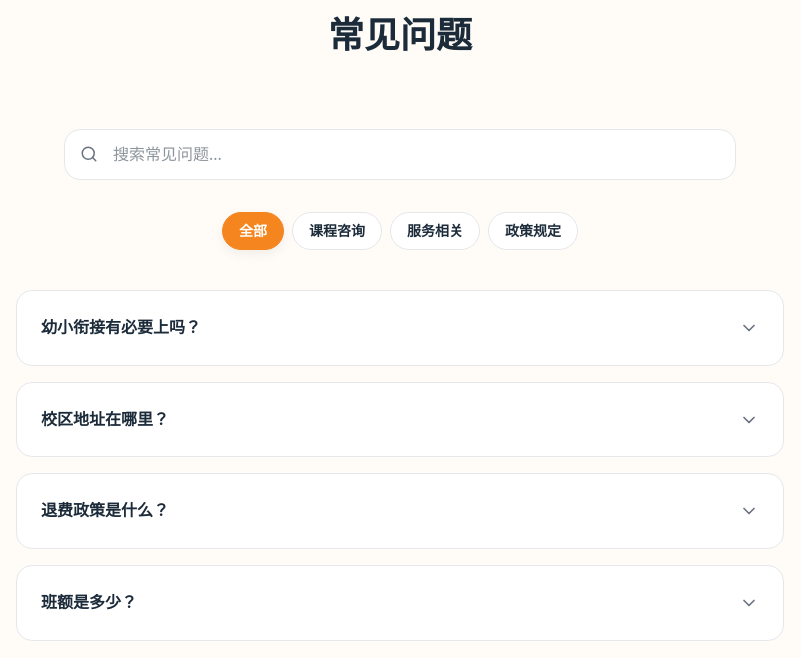
Test case: Faq 组件 › 点击"服务相关"pill 只显示 service 类 FAQ
The width and height of the screenshot is (801, 658).
Click the button "服务相关" at [435, 231], box [390,212,480,250]
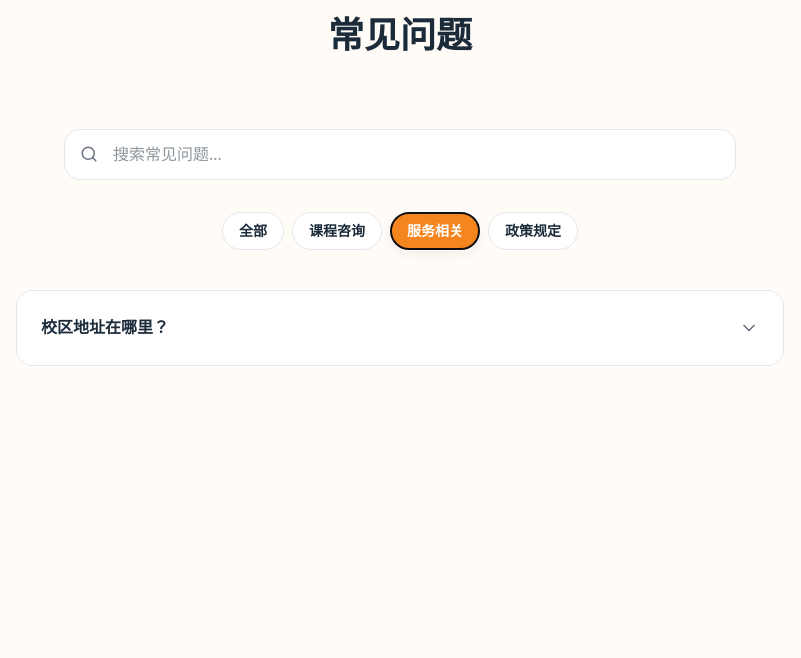
Expected: the text "校区地址在哪里？" is shown, [41,315,169,341]
Result: the button "幼小衔接有必要上吗？" is gone
Result: the button "退费政策是什么？" is gone
